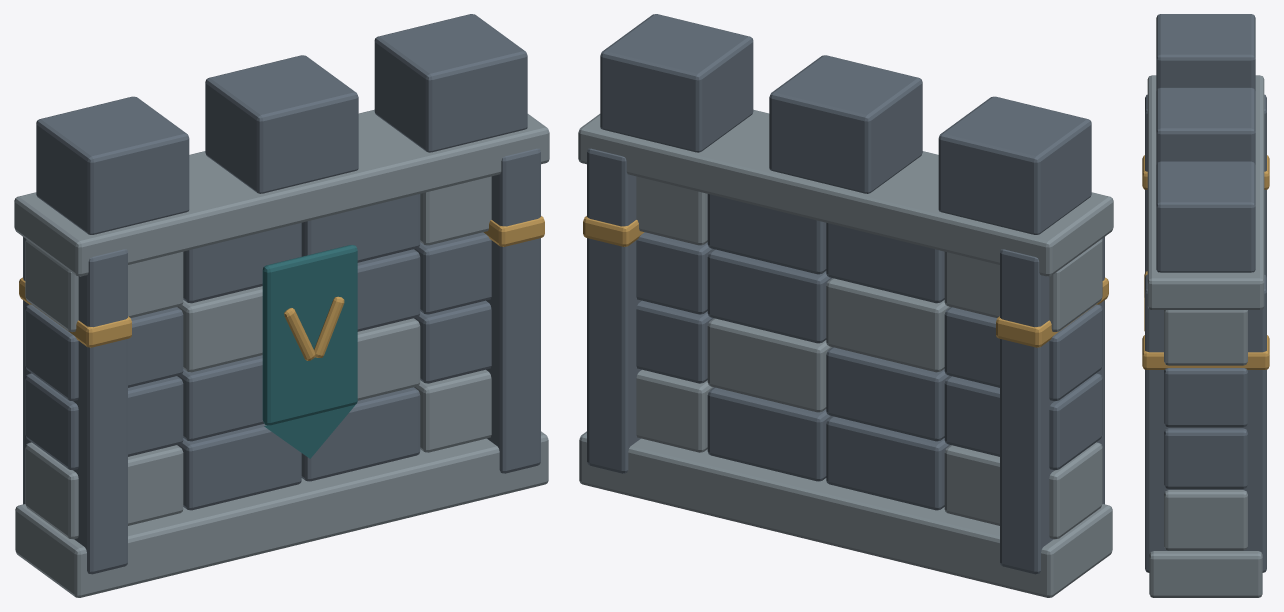
The model's file is castle_wall.glb.
3 views of the same model, side by side, from view 1: azimuth 30°, elevation 25°; view 2: azimuth 150°, elevation 25°; view 3: azimuth 270°, elevation 25° (orthographic). The views are drawn at different scales.
Visible parts, largest first — view 1: DressedAshlar.002, BatteredFooting.001, Banner.001, BrassBand.001; view 2: DressedAshlar.002, BatteredFooting.001, BrassBand.001; view 3: DressedAshlar.002, BatteredFooting.001, BrassBand.001.
Part boxes in pixels (x1,y1,x2,y2): DressedAshlar.002: [23, 14, 540, 574]; BatteredFooting.001: [14, 109, 549, 597]; Banner.001: [262, 245, 357, 458]; BrassBand.001: [19, 216, 544, 360]; DressedAshlar.002: [587, 14, 1104, 574]; BatteredFooting.001: [578, 109, 1113, 597]; BrassBand.001: [583, 216, 1108, 347]; DressedAshlar.002: [1145, 14, 1266, 572]; BatteredFooting.001: [1147, 75, 1264, 597]; BrassBand.001: [1142, 155, 1269, 369].
Bounding box in the file's own units: 2.8 × 2.46 × 0.73.
